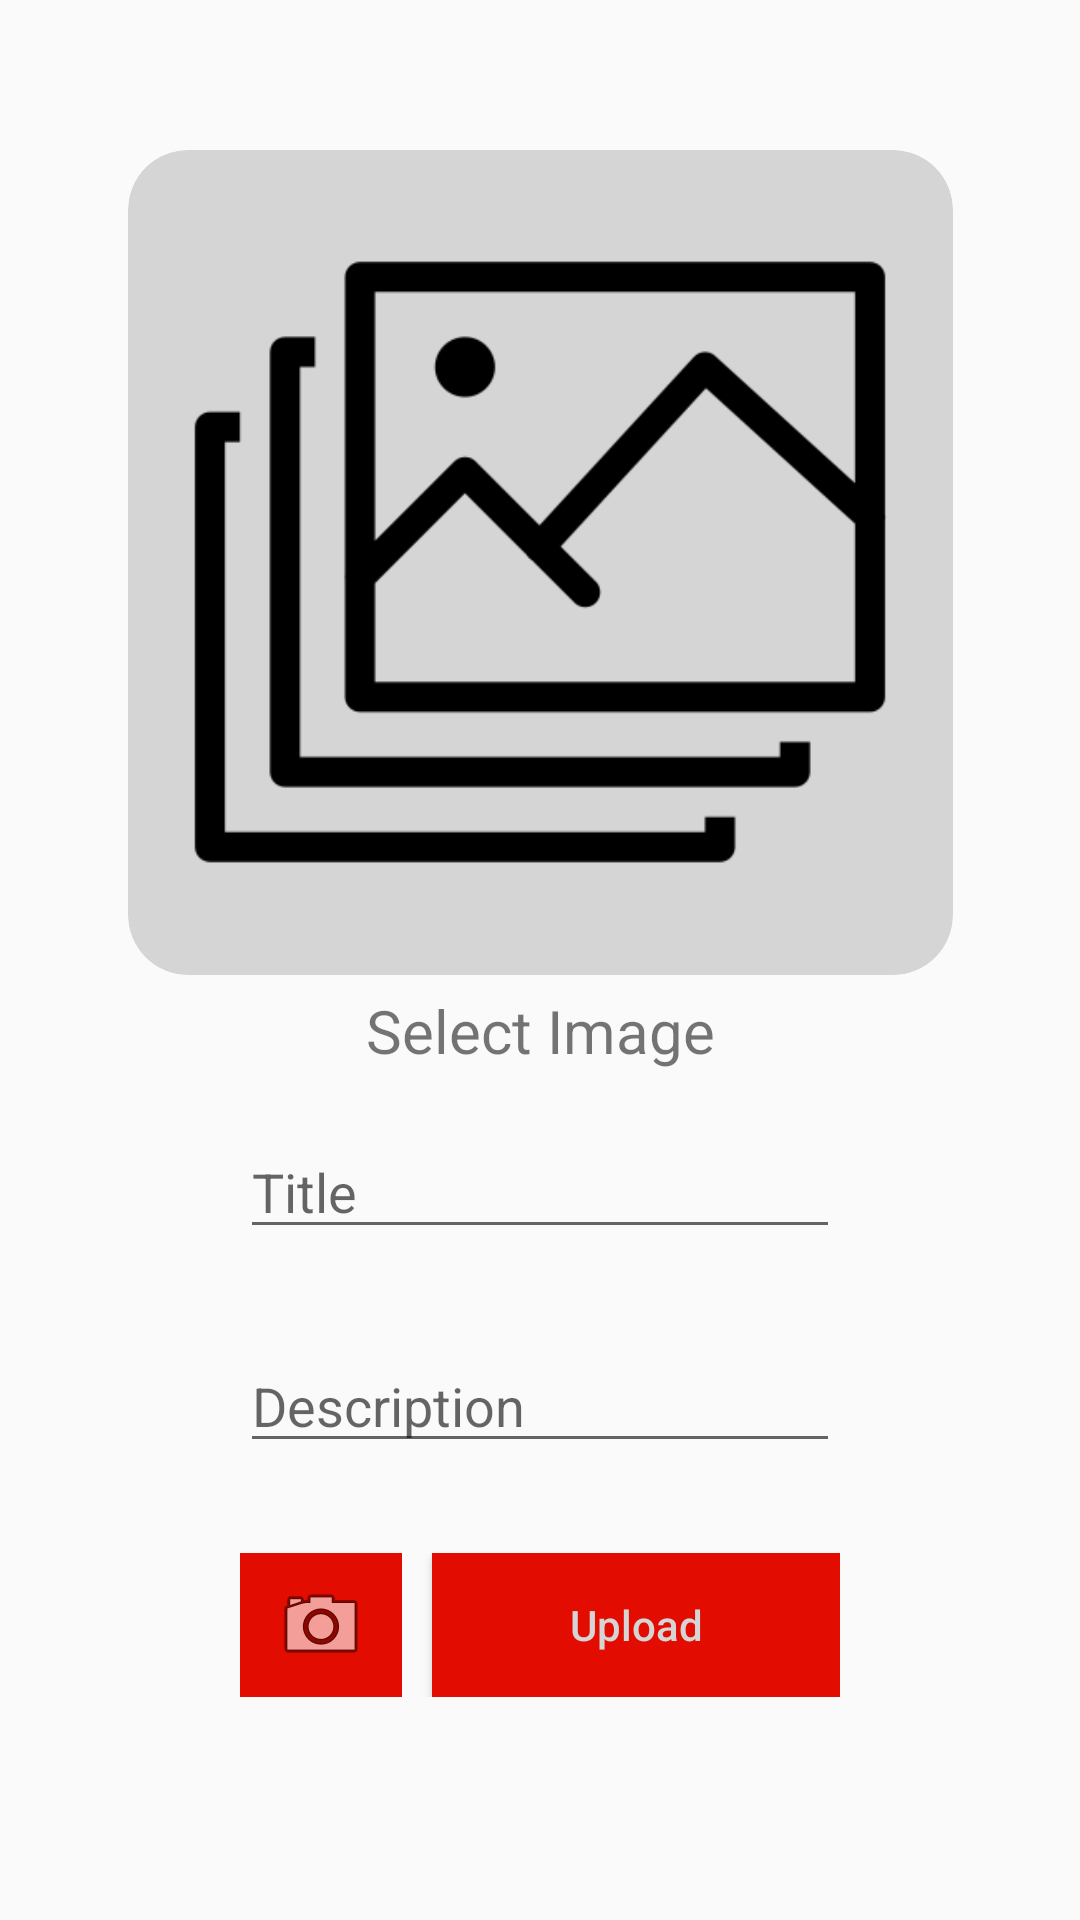

Icon bounding boxes for this 1080px×1920px phone screenshot, format (x1, y1, x2, y2):
camera: (240, 1553, 402, 1697)
